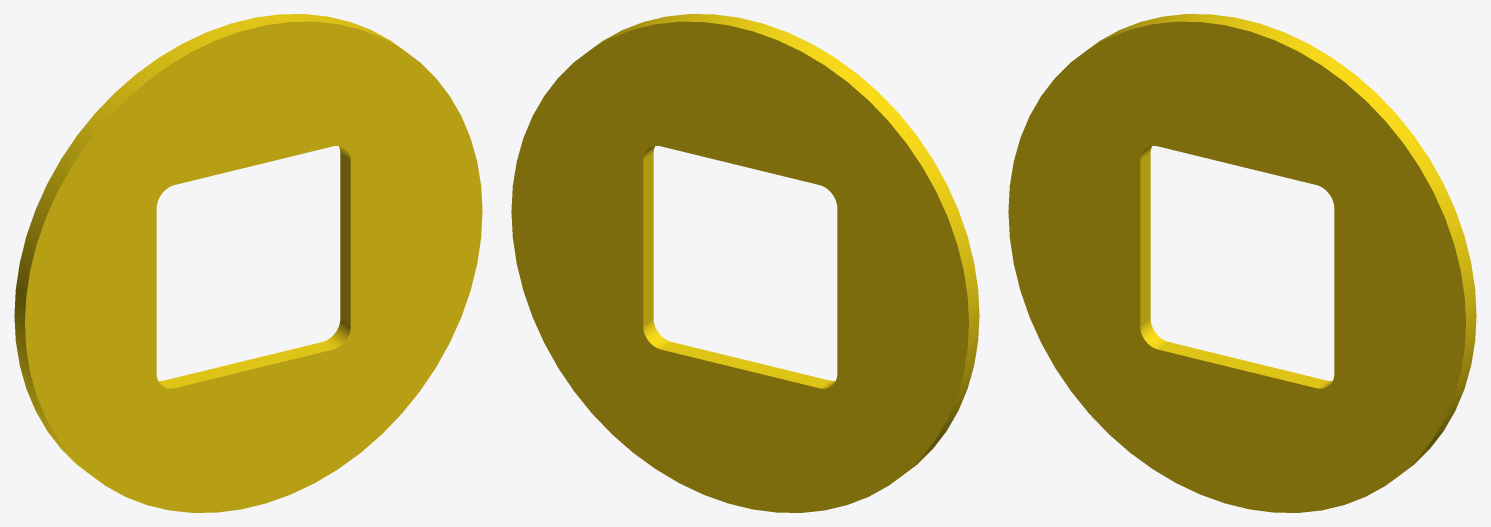
Rendered from A26_H106_smallSpacer.gltf.
3 views of the same model, side by side, from view 1: azimuth 30°, elevation 25°; view 2: azimuth 150°, elevation 25°; view 3: azimuth 330°, elevation 25° (orthographic).
Parts seen in each view (by area): view 1: mesh285, mesh284, mesh288, mesh289; view 2: mesh286, mesh284, mesh288, mesh289; view 3: mesh285, mesh284, mesh290, mesh289.
Part boxes in pixels (x1=…): mesh285: x1=25, y1=21, x2=482, y2=512; mesh284: x1=14, y1=14, x2=400, y2=481; mesh288: x1=340, y1=153, x2=350, y2=325; mesh289: x1=164, y1=342, x2=331, y2=387; mesh286: x1=511, y1=21, x2=968, y2=512; mesh284: x1=593, y1=14, x2=979, y2=481; mesh288: x1=643, y1=153, x2=653, y2=325; mesh289: x1=662, y1=342, x2=829, y2=387; mesh285: x1=1008, y1=21, x2=1465, y2=512; mesh284: x1=1090, y1=14, x2=1476, y2=481; mesh290: x1=1140, y1=153, x2=1150, y2=325; mesh289: x1=1159, y1=342, x2=1326, y2=387.
Bounding box in the file's own units: 0.01 × 0.00999 × 0.000397.
